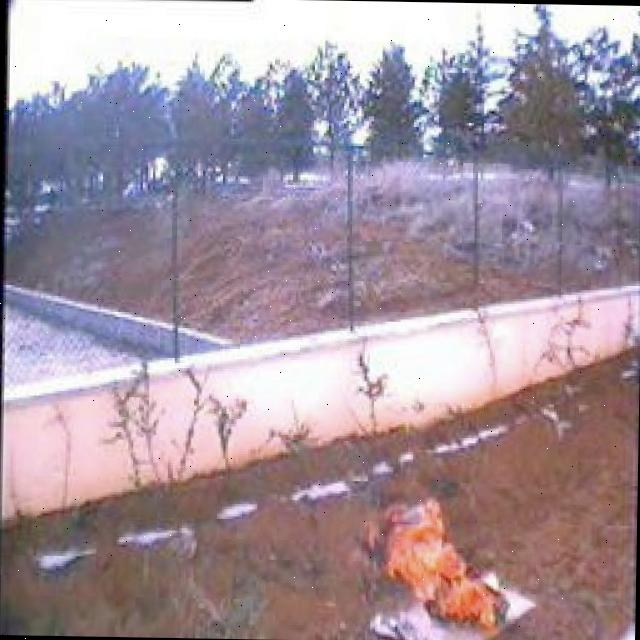fire: (368, 499, 514, 640)
